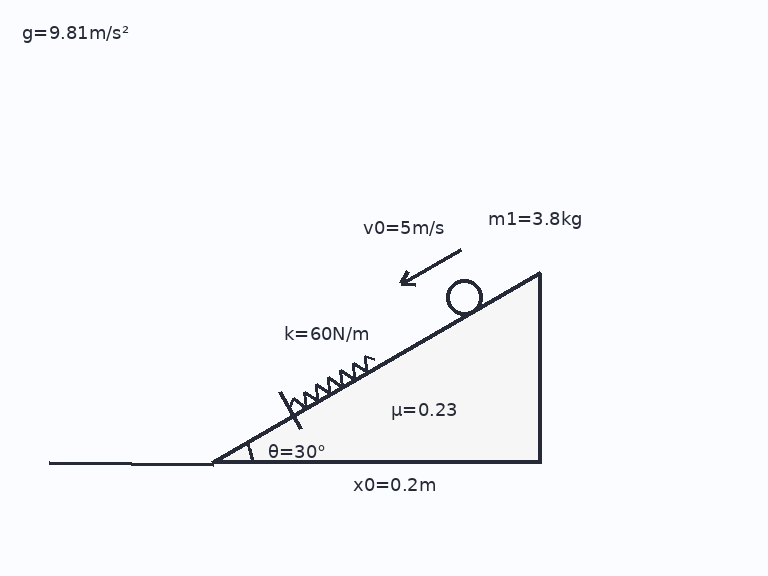ball: (444, 277, 484, 317)
ramp: (210, 272, 541, 465)
spring: (287, 354, 376, 410)
